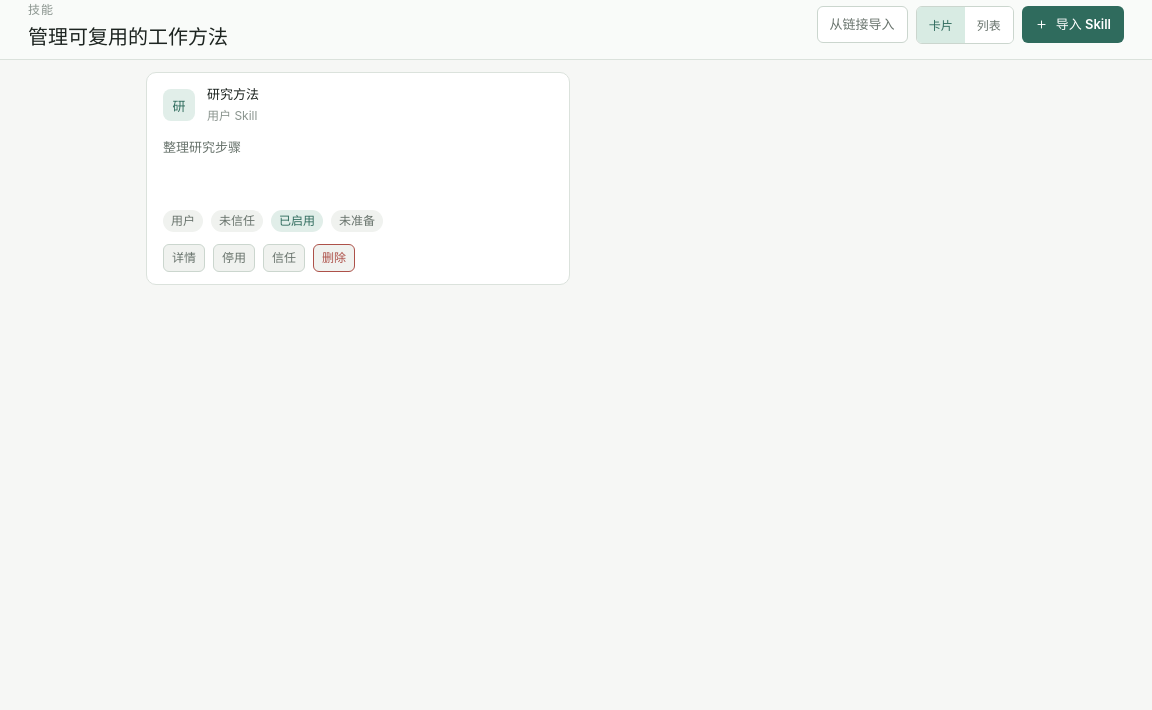
Test: SkillsPage › keeps the trust intent checked while runtime setup still needs review
Check: the text "研究方法" is shown, box x1=207 y1=85 x2=259 y2=103
Click the button "研 研究方法 用户 Skill 整理研究步骤".
click(179, 105)  # box x1=163 y1=85 x2=553 y2=198
(page scrolled)
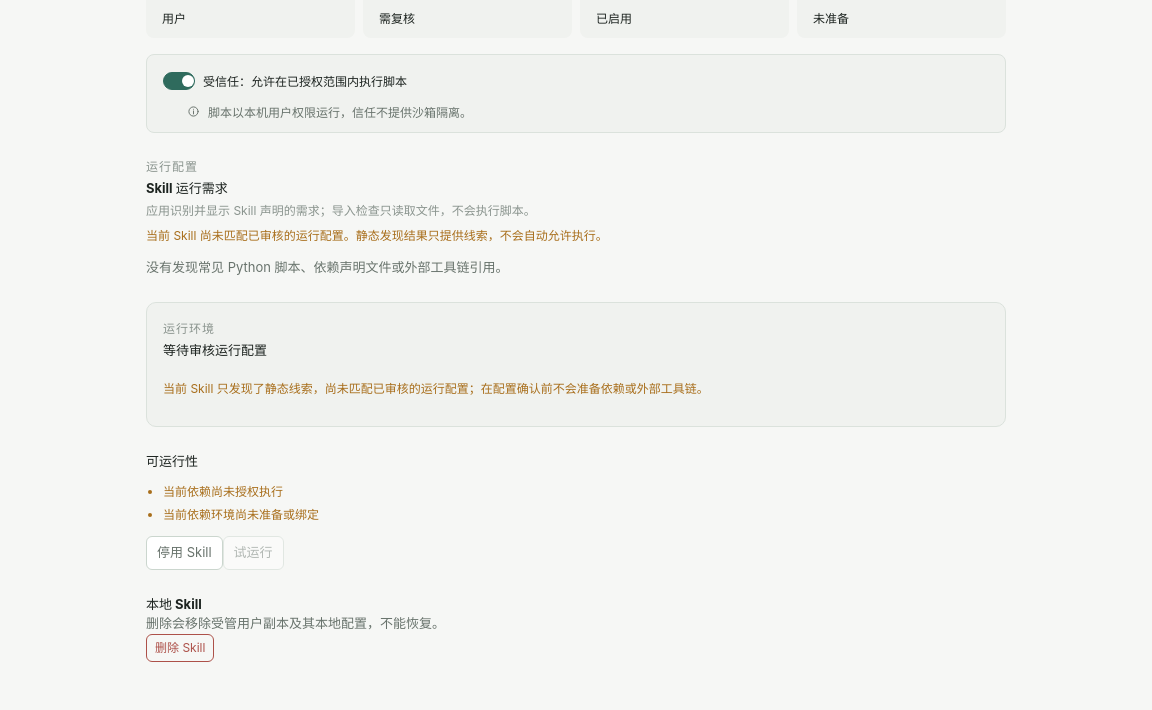
Check: the list item "当前依赖尚未授权执行" is shown, box x1=163 y1=484 x2=283 y2=499
Check: the list item "当前依赖环境尚未准备或绑定" is shown, box x1=163 y1=507 x2=319 y2=522
